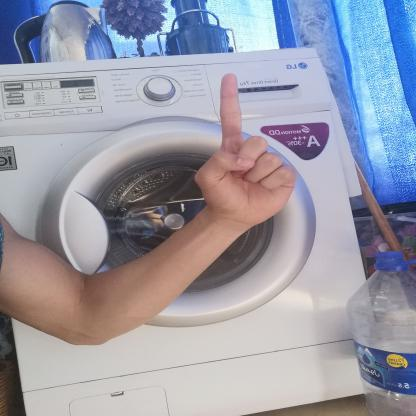BAA: (183, 69, 306, 230)
